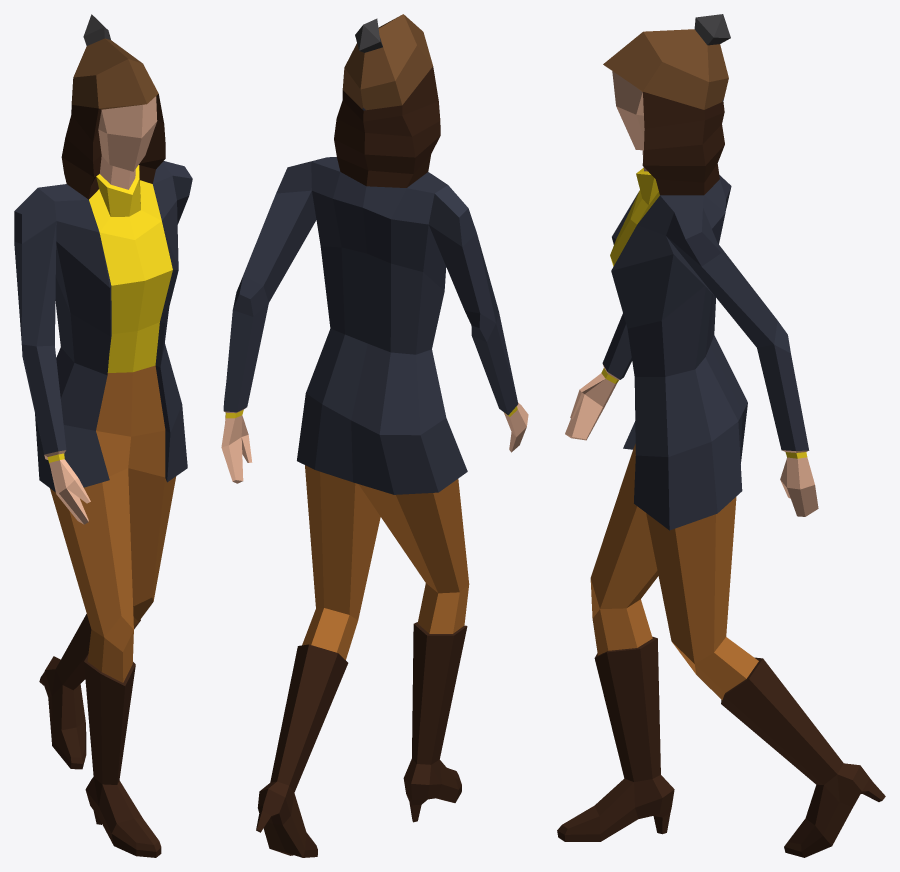
File: AutumnWomanB.004.glb
3 views of the same model, side by side, from view 1: azimuth 30°, elevation 25°; view 2: azimuth 150°, elevation 25°; view 3: azimuth 270°, elevation 25° (orthographic). The views are drawn at different scales.
Visible parts, largest first — view 1: AutumnWomanB.004; view 2: AutumnWomanB.004; view 3: AutumnWomanB.004.
Part boxes in pixels (left/top/right/bottom): AutumnWomanB.004: left=14, top=14, right=192, bottom=857; AutumnWomanB.004: left=221, top=14, right=528, bottom=857; AutumnWomanB.004: left=557, top=14, right=885, bottom=857.
Size of the model in its own units: 0.4575 by 1.72 by 0.618.
Materials: 1 (1 with a texture image).
